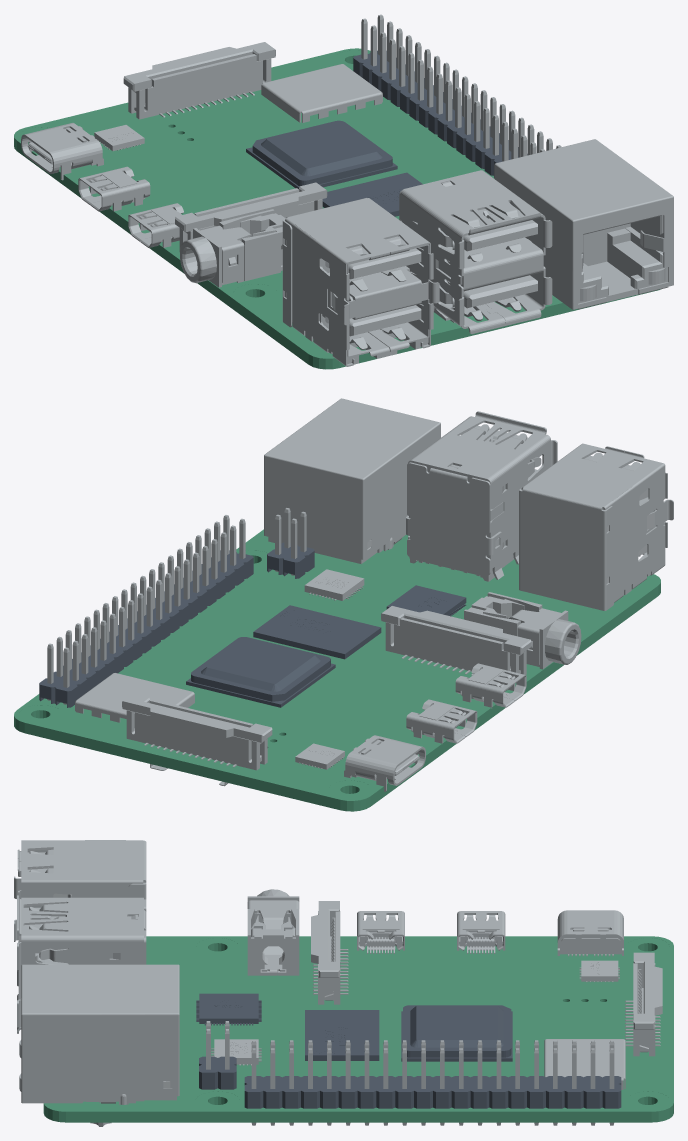
Rendered from qhpc-cad-pi-v1.glb.
The picture shows the model from 3 angles, top to bottom: view 1: azimuth 30°, elevation 25°; view 2: azimuth 150°, elevation 25°; view 3: azimuth 270°, elevation 25°; orthographic projection.
Parts seen in each view (by area): view 1: metal, green, dark; view 2: metal, green, dark; view 3: metal, green, dark.
Boxes of the visible parts, box(x1,y1,x2,y2) form: metal: box(21, 14, 673, 366); green: box(14, 48, 660, 369); dark: box(246, 50, 527, 216); metal: box(47, 398, 673, 791); green: box(14, 529, 660, 811); dark: box(39, 542, 466, 707); metal: box(14, 840, 662, 1126); green: box(43, 936, 673, 1122); dark: box(196, 993, 621, 1108).
Size of the model in its own units: 0.584 by 0.199 by 0.8899.
